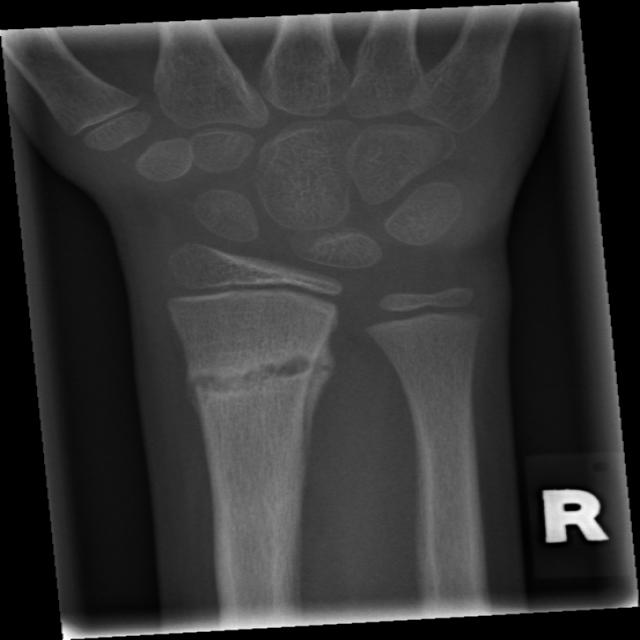radius fracture: (152, 320, 356, 545)
